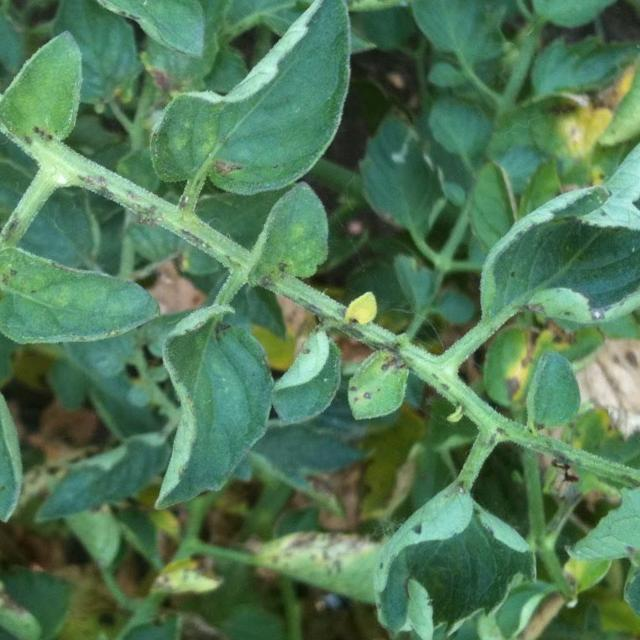Tomato leaf bacterial spot: (431, 73, 640, 383), (142, 0, 369, 199), (0, 234, 191, 375), (22, 0, 216, 61), (0, 316, 31, 640), (337, 340, 437, 439)
